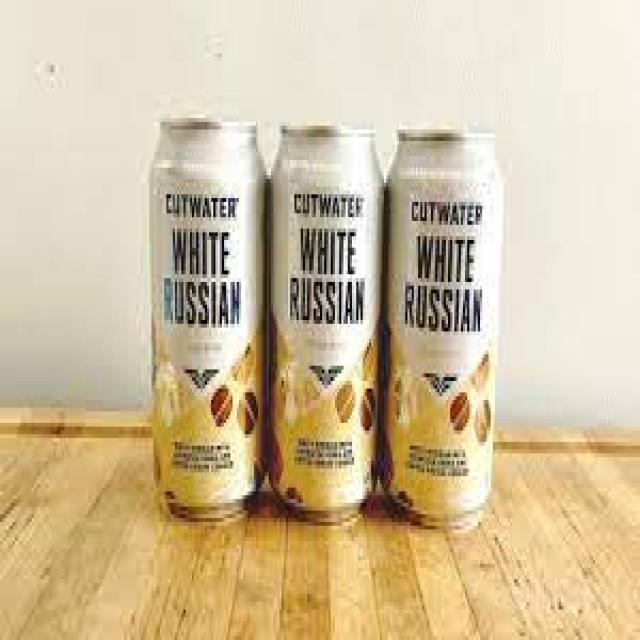Cans: (147, 103, 271, 529), (384, 107, 501, 537), (269, 114, 386, 522)
